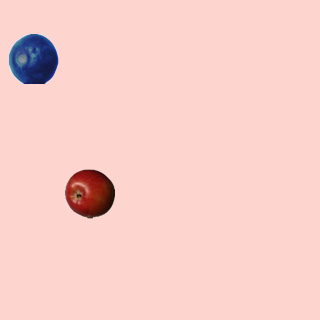Apple Braeburn: (64, 168, 114, 218)
Huckleberry: (8, 33, 58, 83)
